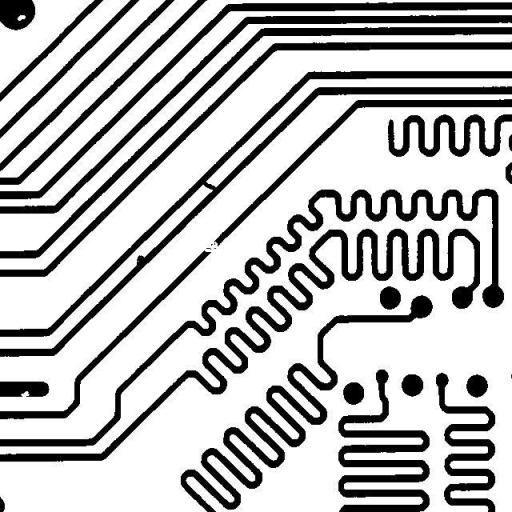mousebite: (13, 383, 37, 404)
open: (195, 234, 225, 259)
pin-hole: (10, 7, 32, 28)
short: (192, 171, 226, 199)
spur: (129, 247, 151, 273)
